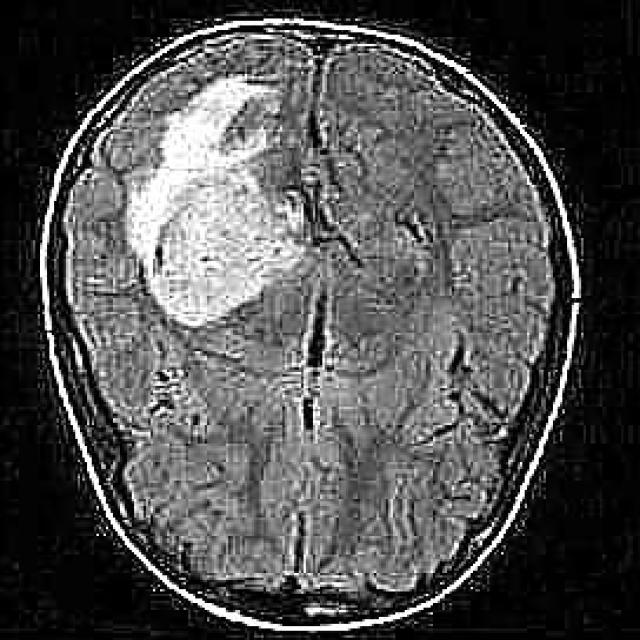Tumor-Cell: (130, 89, 300, 314)
